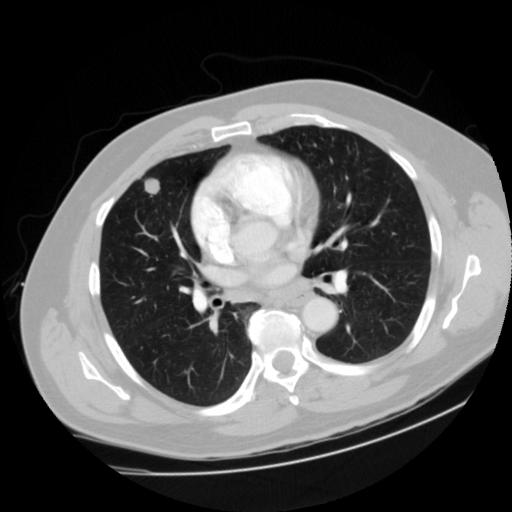nodule: (140, 174, 165, 199)
